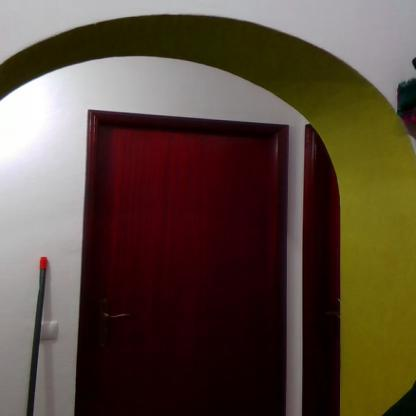door: (95, 126, 280, 416)
lever: (106, 310, 136, 324)
